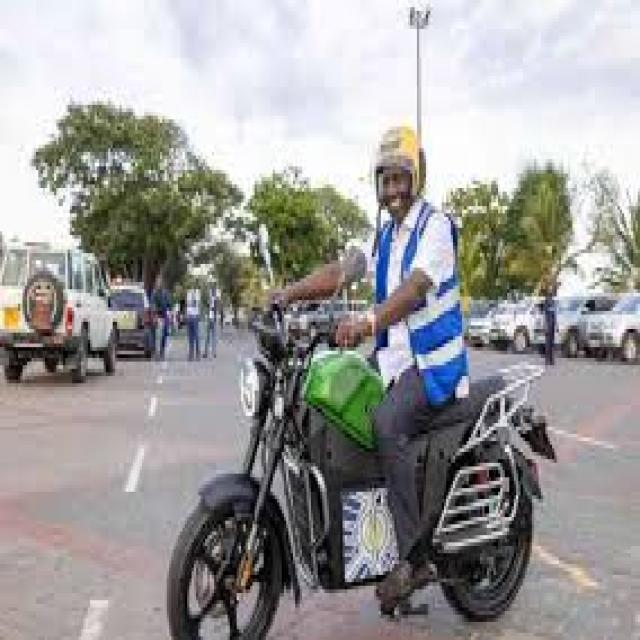bodaboda: (89, 182, 582, 640)
